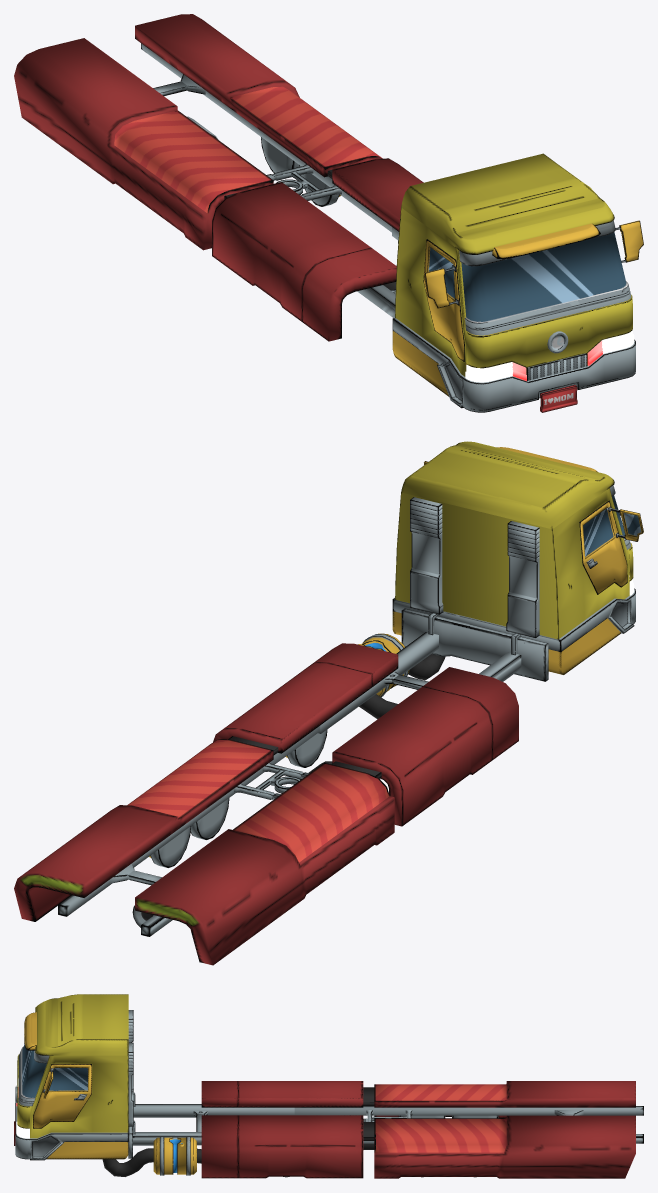
File: Truck.fbx
3 views of the same model, one above another, from view 1: azimuth 30°, elevation 25°; view 2: azimuth 150°, elevation 25°; view 3: azimuth 270°, elevation 25° (orthographic). The views are drawn at different scales.
Parts seen in each view (by area): view 1: Truck; view 2: Truck; view 3: Truck.
Boxes of the visible parts, x1=… form: Truck: x1=14, y1=14, x2=643, y2=412; Truck: x1=14, y1=441, x2=643, y2=965; Truck: x1=14, y1=994, x2=643, y2=1178.
Bounding box in the file's own units: 5.35 × 4.82 × 19.58.
